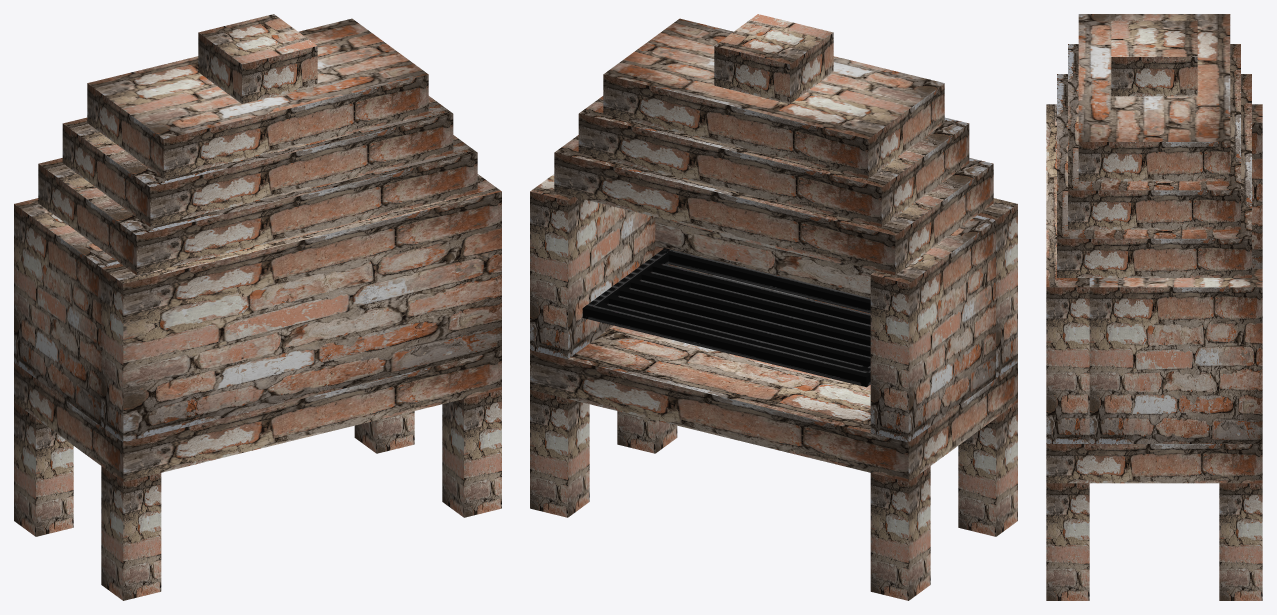
The model's file is Argentinian_Asado_Grill.fbx.
3 renders of one model, left to right at view 1: azimuth 30°, elevation 25°; view 2: azimuth 150°, elevation 25°; view 3: azimuth 270°, elevation 25°, orthographic.
Visible parts, largest first — view 1: Wall_Back, Hood_Layer3, Hood_Layer1, Table_Top, Hood_Layer2, Wall_Left, Chimney_Pipe, Leg_BackLeft, Leg_BackRight, Leg_FrontLeft, Leg_FrontRight; view 2: Table_Top, Hood_Layer3, Wall_Left, Hood_Layer1, Hood_Layer2, Wall_Right, Wall_Back, Chimney_Pipe, Leg_FrontLeft, Leg_FrontRight, Leg_BackLeft, Grate_Frame_Front (+9 smaller); view 3: Wall_Right, Hood_Layer3, Hood_Layer1, Hood_Layer2, Wall_Back, Table_Top, Chimney_Pipe, Leg_FrontRight, Leg_BackRight, Wall_Left.
Boxes of the visible parts, bbox=[...] form: Wall_Back: bbox=[101, 175, 501, 442]; Hood_Layer3: bbox=[87, 18, 428, 178]; Hood_Layer1: bbox=[38, 135, 477, 275]; Table_Top: bbox=[14, 350, 501, 481]; Hood_Layer2: bbox=[62, 96, 453, 226]; Wall_Left: bbox=[14, 198, 119, 425]; Chimney_Pipe: bbox=[198, 14, 317, 103]; Leg_BackLeft: bbox=[101, 466, 161, 600]; Leg_BackRight: bbox=[442, 390, 501, 517]; Leg_FrontLeft: bbox=[14, 402, 73, 536]; Leg_FrontRight: bbox=[354, 411, 414, 453]; Table_Top: bbox=[530, 325, 1017, 481]; Hood_Layer3: bbox=[603, 18, 944, 178]; Wall_Left: bbox=[870, 215, 995, 442]; Hood_Layer1: bbox=[554, 135, 993, 275]; Hood_Layer2: bbox=[578, 96, 969, 226]; Wall_Right: bbox=[530, 174, 655, 359]; Wall_Back: bbox=[655, 198, 1017, 378]; Chimney_Pipe: bbox=[714, 14, 833, 103]; Leg_FrontLeft: bbox=[870, 466, 930, 600]; Leg_FrontRight: bbox=[530, 390, 589, 517]; Leg_BackLeft: bbox=[958, 402, 1017, 536]; Grate_Frame_Front: bbox=[582, 306, 870, 387]; Wall_Right: bbox=[1089, 269, 1262, 443]; Hood_Layer3: bbox=[1078, 14, 1230, 181]; Hood_Layer1: bbox=[1057, 74, 1251, 277]; Hood_Layer2: bbox=[1068, 44, 1240, 229]; Wall_Back: bbox=[1046, 104, 1089, 443]; Table_Top: bbox=[1046, 444, 1262, 483]; Chimney_Pipe: bbox=[1111, 20, 1197, 96]; Leg_FrontRight: bbox=[1219, 483, 1262, 600]; Leg_BackRight: bbox=[1046, 483, 1089, 600]; Wall_Left: bbox=[1252, 104, 1262, 268].
Size of the model in its own units: 250 by 300 by 125.
2 materials, 2 textured.
